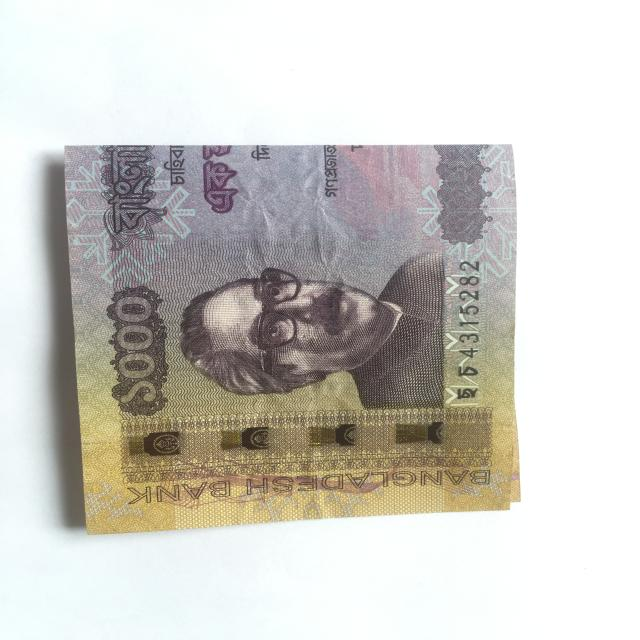Taka: (62, 128, 518, 528)
